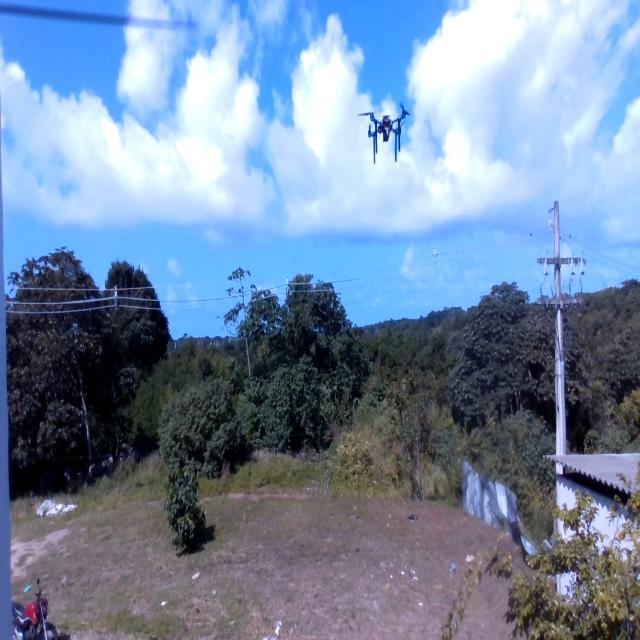-uav-: (354, 90, 416, 169)
